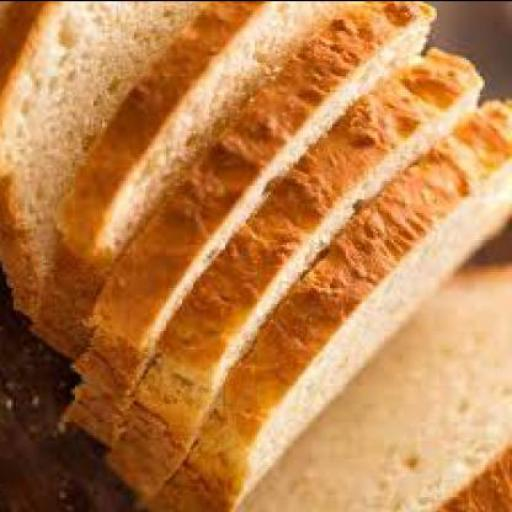biodegradable: (109, 50, 487, 498), (64, 2, 439, 450), (156, 100, 512, 510), (34, 2, 366, 362), (3, 2, 214, 319), (250, 268, 511, 511)
